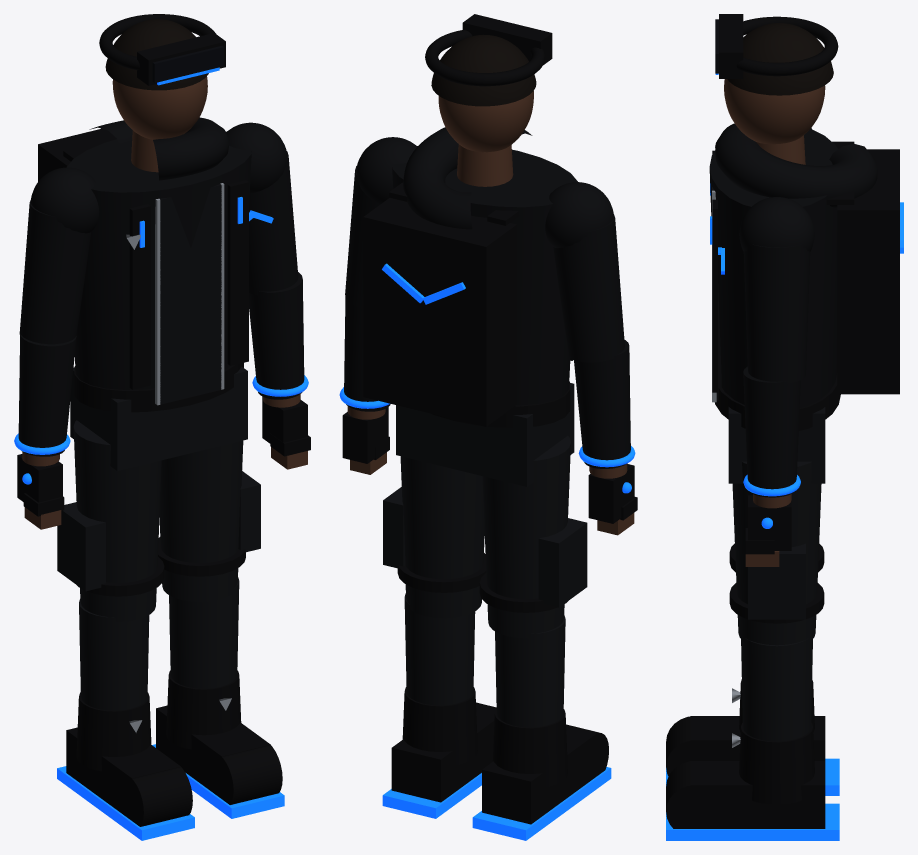
Rendered from RPO_Placeholder.glb.
The picture shows the model from 3 angles, left to right: view 1: azimuth 30°, elevation 25°; view 2: azimuth 150°, elevation 25°; view 3: azimuth 270°, elevation 25°; orthographic projection. The views are drawn at different scales.
Parts seen in each view (by area): view 1: Jacket, Shirt, ThighR, ThighL, Hips, UpperArmR, ShinR, ShinL, ForearmR, ForearmL, UpperArmL, Face (+30 smaller); view 2: Pack, Jacket, ThighR, ThighL, Hips, UpperArmR, ShinR, ShinL, BootR, ForearmR, BootL, Hood (+21 smaller); view 3: Pack, Jacket, UpperArmL, Hood, ShinL, BootL, ThighL, ForearmL, BootShaftL, Hair, Face, PocketL (+17 smaller).
Boxes of the visible parts, x1,y1,x2,y2 form: Jacket: [66, 131, 251, 389]; Shirt: [160, 184, 221, 404]; ThighR: [73, 420, 161, 621]; ThighL: [159, 440, 243, 601]; Hips: [70, 367, 247, 470]; UpperArmR: [19, 200, 90, 344]; ShinR: [79, 599, 149, 710]; ShinL: [169, 577, 239, 688]; ForearmR: [18, 333, 76, 456]; ForearmL: [249, 272, 304, 399]; UpperArmL: [249, 151, 298, 295]; Face: [112, 76, 207, 139]; Pack: [363, 198, 516, 426]; Jacket: [392, 146, 577, 405]; ThighR: [482, 436, 570, 638]; ThighL: [400, 456, 484, 618]; Hips: [396, 383, 574, 486]; UpperArmR: [553, 215, 624, 362]; ShinR: [495, 615, 565, 727]; ShinL: [404, 593, 475, 705]; BootR: [482, 725, 597, 824]; ForearmR: [574, 339, 630, 468]; BootL: [391, 703, 496, 802]; Hood: [403, 127, 532, 229]; Pack: [837, 149, 899, 394]; Jacket: [709, 128, 838, 407]; UpperArmL: [743, 244, 810, 383]; Hood: [715, 123, 877, 208]; ShinL: [741, 638, 812, 741]; BootL: [690, 761, 825, 828]; ThighL: [732, 461, 821, 645]; ForearmL: [743, 366, 800, 497]; BootShaftL: [739, 723, 814, 804]; Hair: [727, 23, 833, 95]; Face: [724, 79, 825, 144]; PocketL: [748, 543, 805, 619].
Size of the model in its own units: 0.704 by 1.78 by 0.493.
